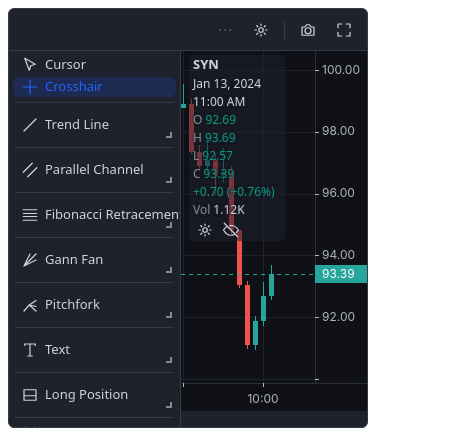
it: layout in a real browser › moves header actions that do not fit into "More actions"
Click the button named "More actions" at (225, 30), box [208,12,242,46]
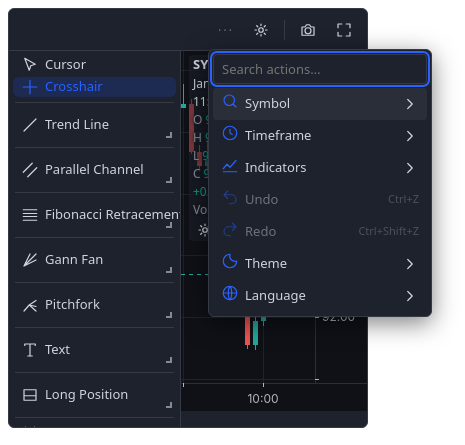
expect the menu item "Symbol" is shown: met, box [213,88,427,120]
